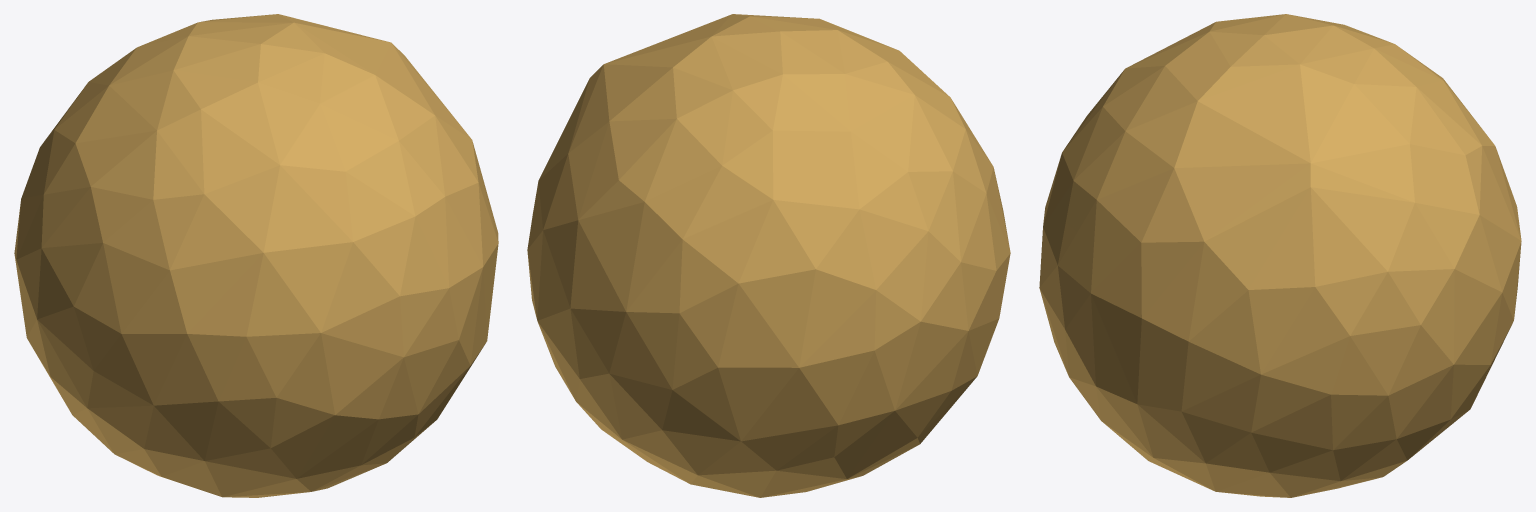
Rendered from tatooine_simple.dae.
3 renders of one model, left to right at view 1: azimuth 30°, elevation 25°; view 2: azimuth 150°, elevation 25°; view 3: azimuth 270°, elevation 25°, orthographic.
Visible parts, largest first — view 1: kamino; view 2: kamino; view 3: kamino.
Boxes of the visible parts, left/top/right/bottom form: kamino: left=14, top=14, right=498, bottom=497; kamino: left=527, top=14, right=1010, bottom=497; kamino: left=1039, top=14, right=1521, bottom=497.
Size of the model in its own units: 6.04 by 5.99 by 6.03.
